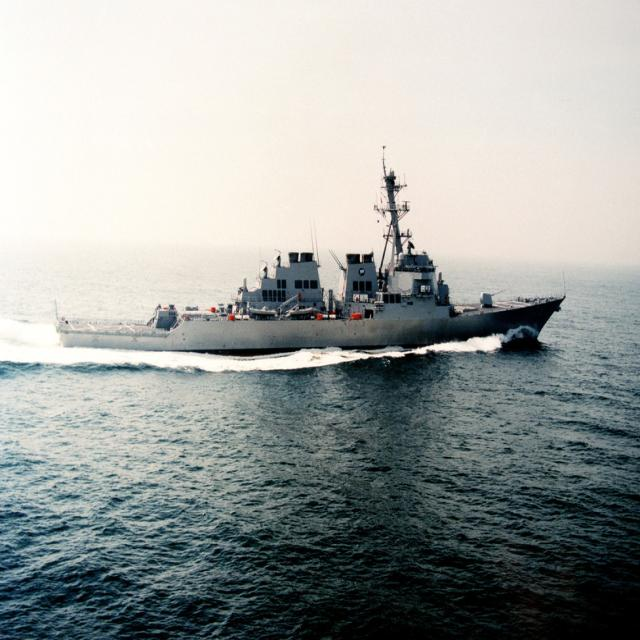navalvessels: (43, 133, 566, 362)
